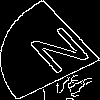N: (25, 25, 100, 84)
